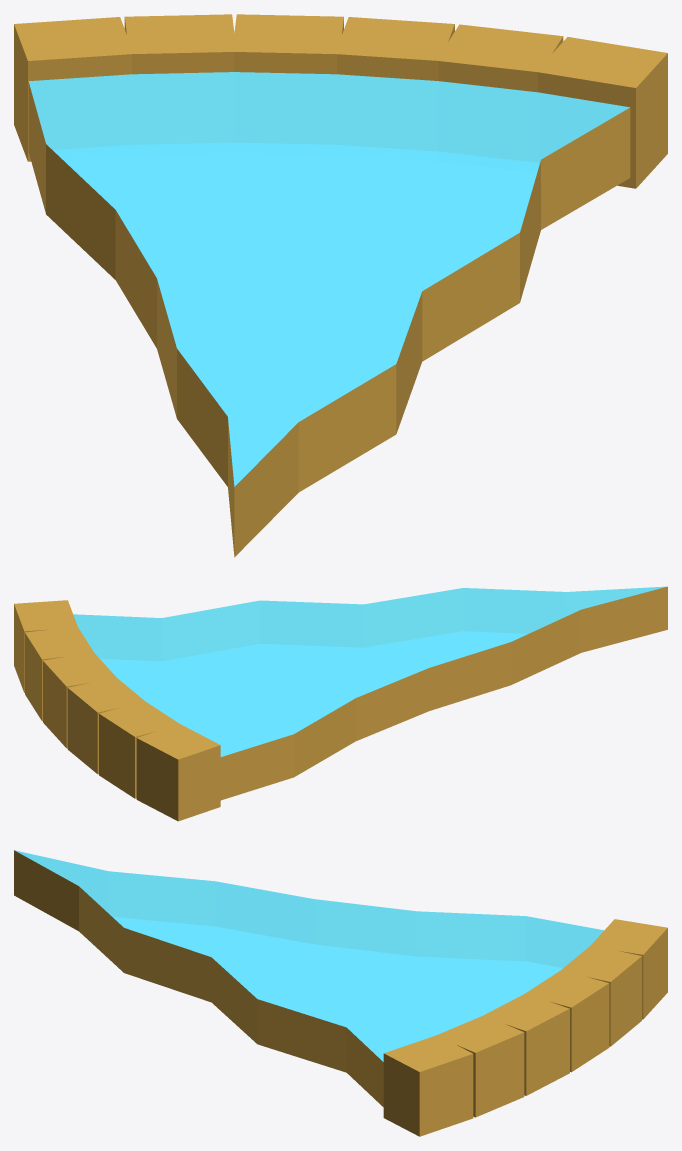
File: prop_compass_piece_02_v01.glb
3 renders of one model, top to bottom at view 1: azimuth 30°, elevation 25°; view 2: azimuth 150°, elevation 25°; view 3: azimuth 270°, elevation 25°, orthographic. The views are drawn at different scales.
Parts seen in each view (by area): view 1: piece_02; view 2: piece_02; view 3: piece_02.
Boxes of the visible parts, <box> form: piece_02: <box>14,14,667,557</box>; piece_02: <box>14,586,667,821</box>; piece_02: <box>14,850,667,1136</box>.
Size of the model in its own units: 0.3893 by 0.05 by 0.4581.
